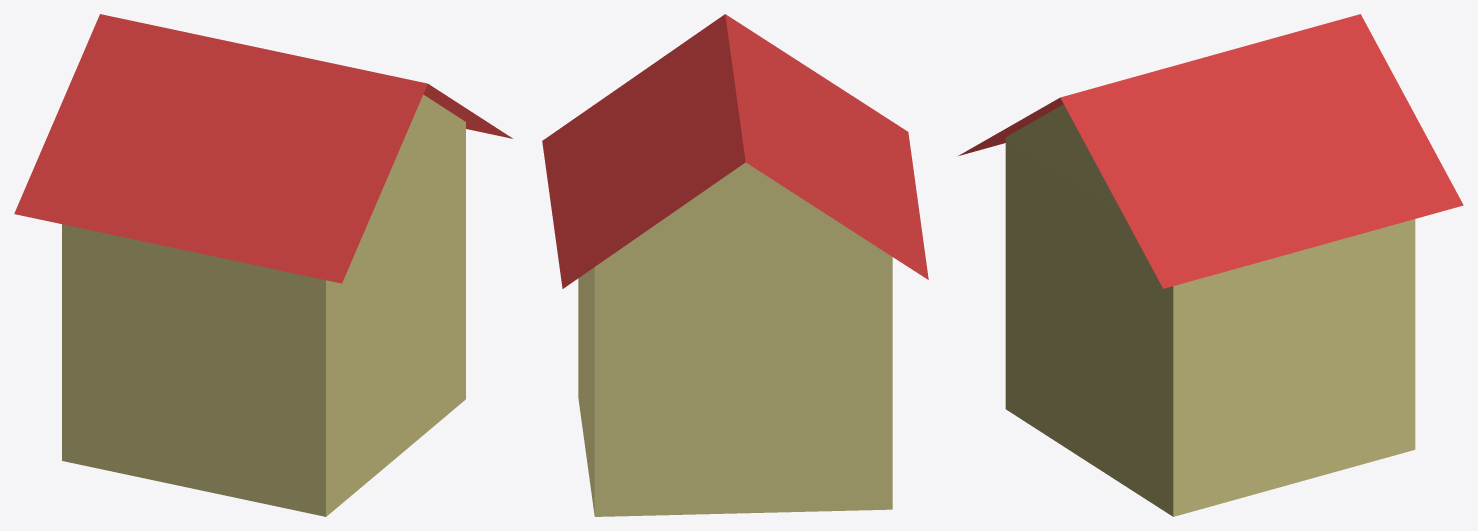
The picture shows the model from 3 angles, left to right: view 1: azimuth 30°, elevation 25°; view 2: azimuth 150°, elevation 25°; view 3: azimuth 270°, elevation 25°; orthographic projection. The views are drawn at different scales.
Bounding box in the file's own units: 14.6 × 14.47 × 11.78.
